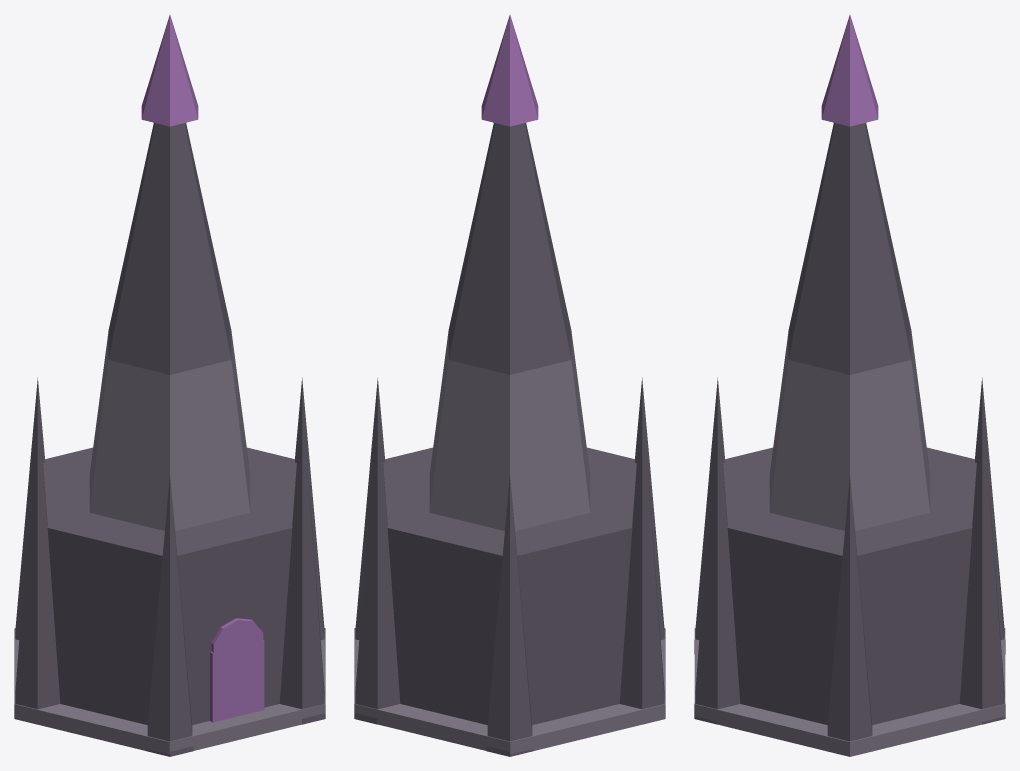
3 views of the same model, side by side, from view 1: azimuth 30°, elevation 25°; view 2: azimuth 150°, elevation 25°; view 3: azimuth 270°, elevation 25° (orthographic).
Visible parts, largest first — view 1: body; view 2: body; view 3: body.
Part boxes in pixels (x1,y1,x2,y2): body: [14, 15, 325, 756]; body: [354, 15, 665, 756]; body: [694, 15, 1005, 756].
Bounding box in the file's own units: 13.2 × 27 × 11.43.
